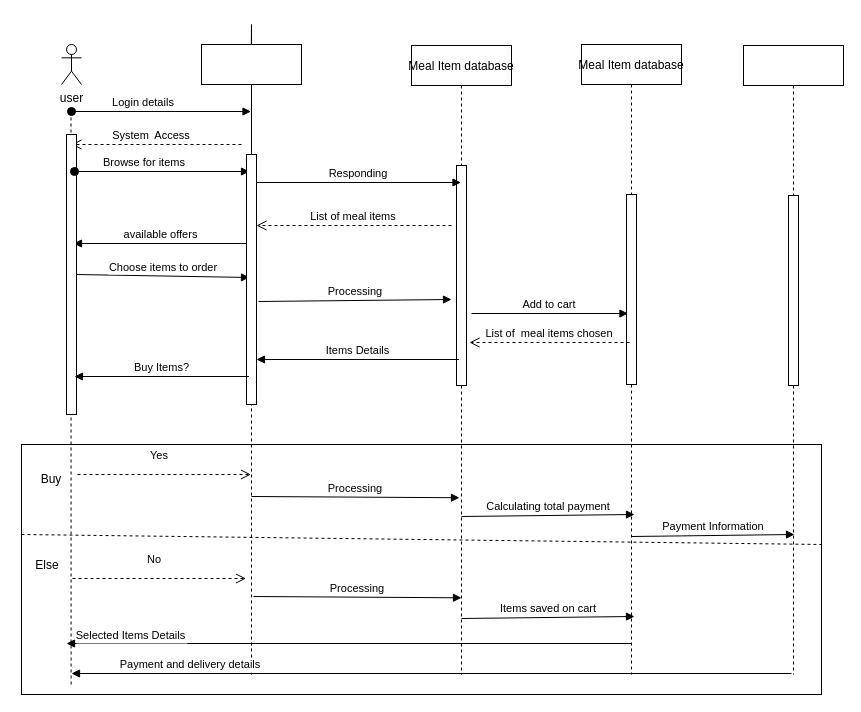
The diagram is 861 pixels wide and 712 high, and some of its shapes have lost their labels. The box of each missing label's shape, as (x1, y1, x2, y2) in pixels:
food order cart: (200, 44, 302, 674)
Purchase Items: (742, 44, 844, 674)
